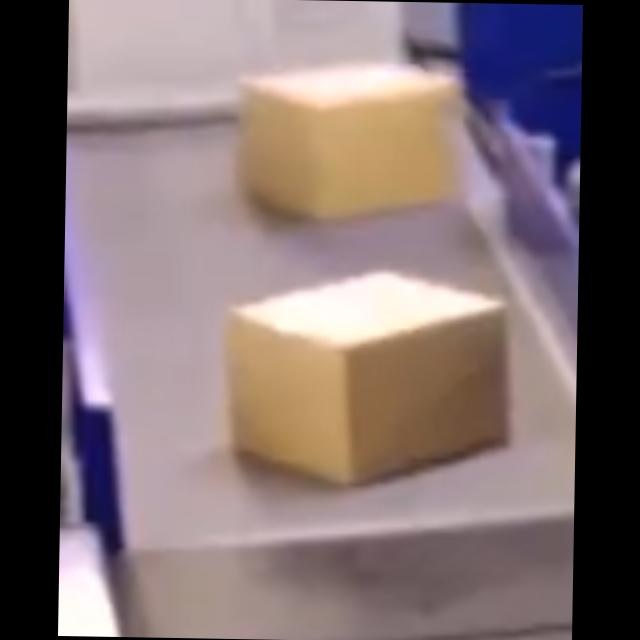box: (226, 271, 510, 483), (238, 56, 462, 218)
